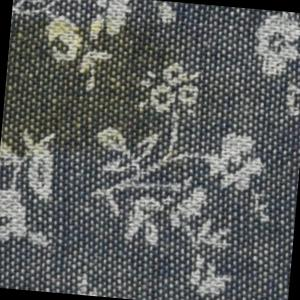Oil Stain: (1, 9, 199, 181)
